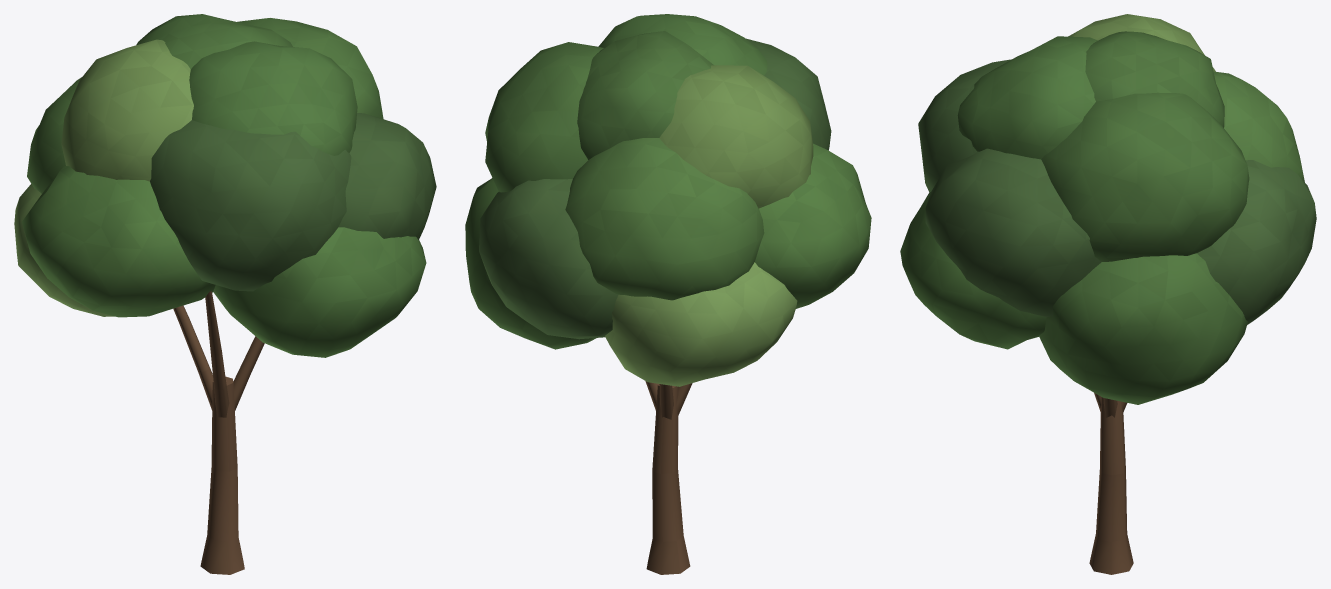
Rendered from nature_tree_garden_01.glb.
3 renders of one model, left to right at view 1: azimuth 30°, elevation 25°; view 2: azimuth 150°, elevation 25°; view 3: azimuth 270°, elevation 25°, orthographic.
Parts seen in each view (by area): view 1: nature_tree_garden_01; view 2: nature_tree_garden_01; view 3: nature_tree_garden_01.
Part boxes in pixels (left/top/right/bottom): nature_tree_garden_01: left=14, top=14, right=436, bottom=574; nature_tree_garden_01: left=465, top=14, right=871, bottom=574; nature_tree_garden_01: left=900, top=14, right=1316, bottom=574.
Size of the model in its own units: 3.15 by 4.35 by 3.12.
